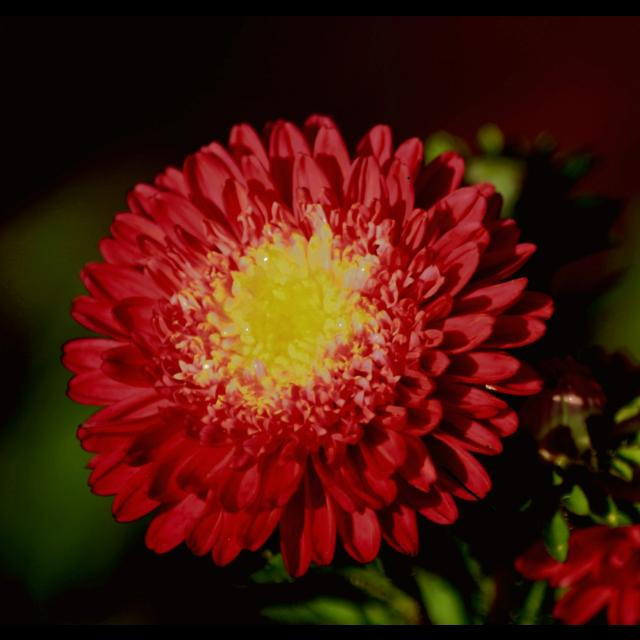Flower: (51, 114, 559, 592)
